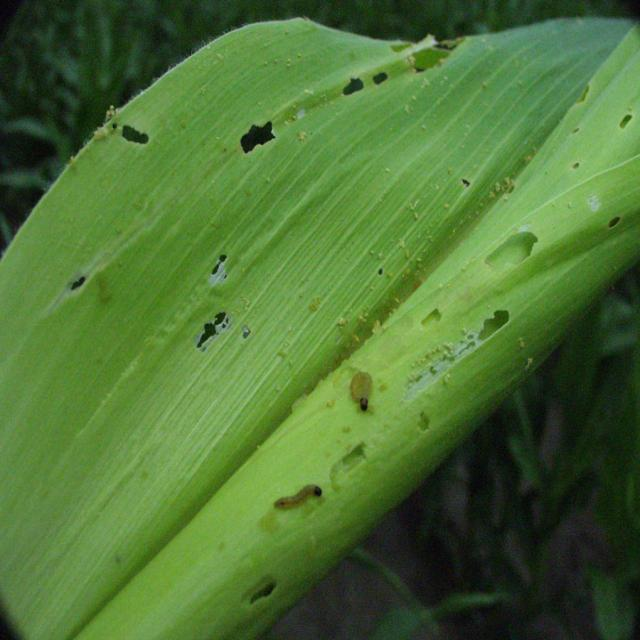cornborer-Larva-: (349, 369, 373, 416)
